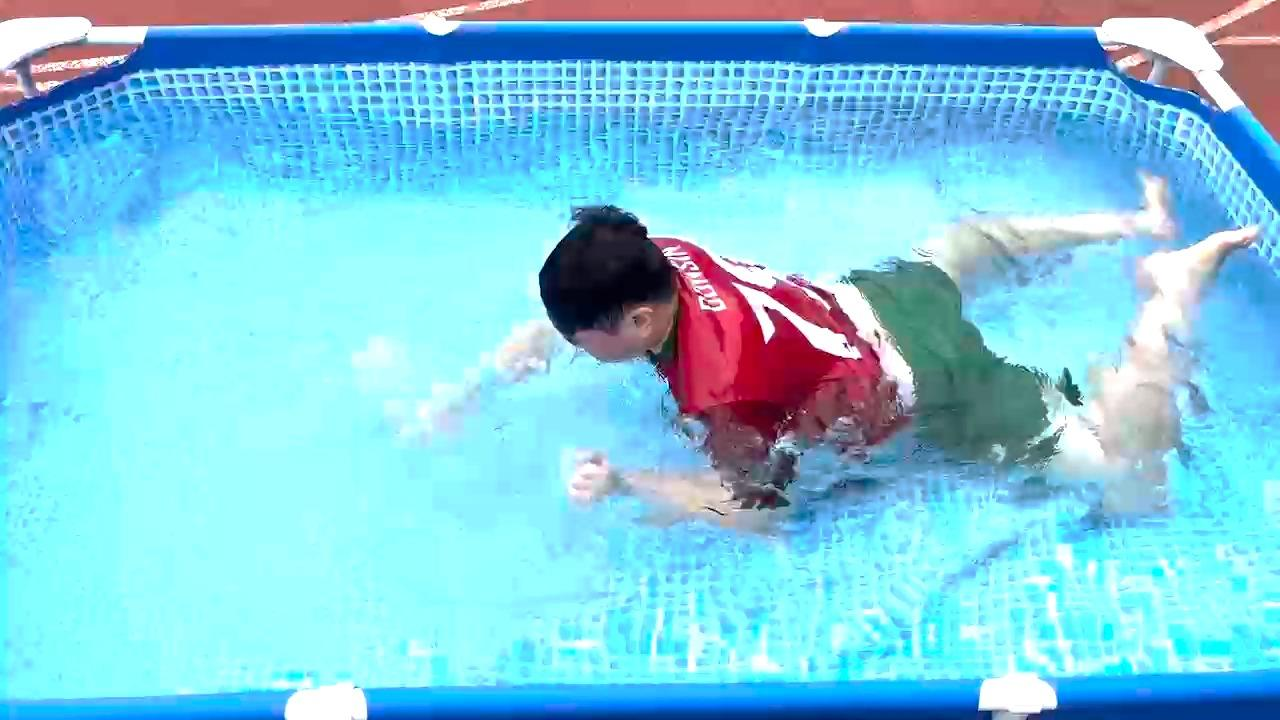Drowning: (347, 166, 1261, 541)
